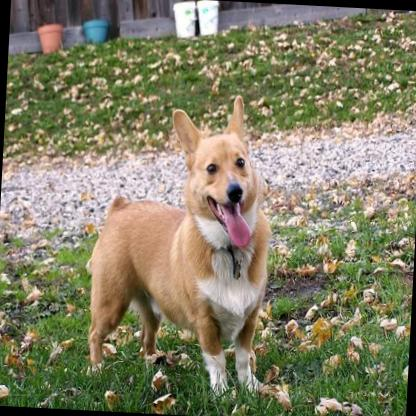Pembroke: (78, 82, 278, 393)
